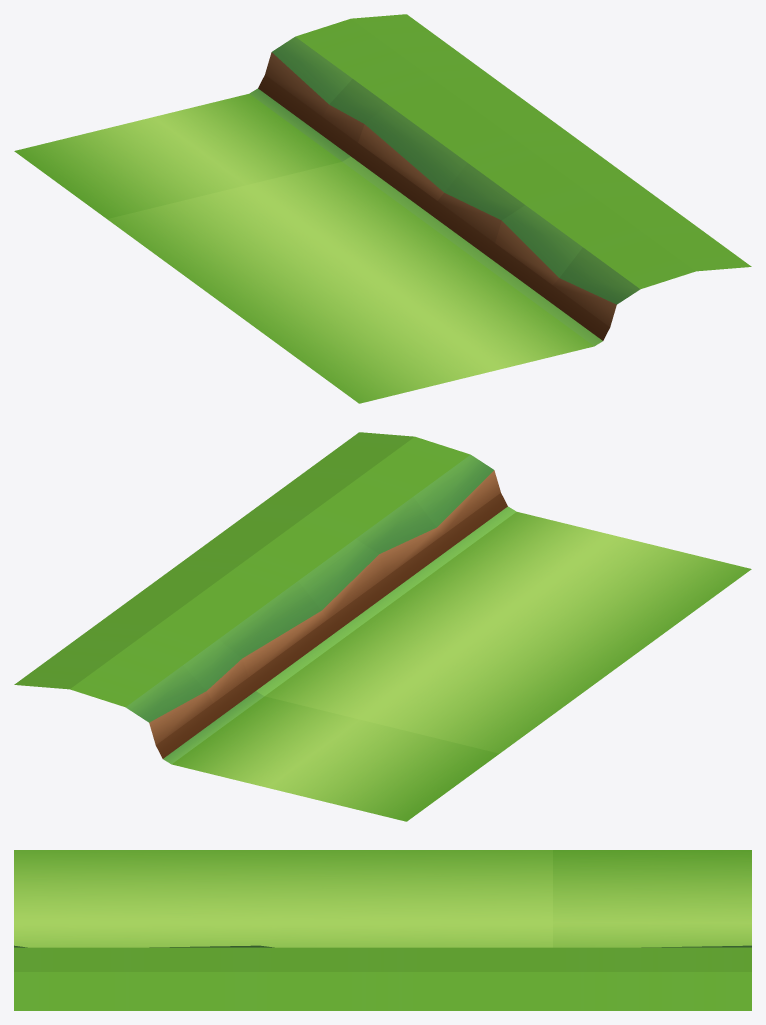
Rendered from Ground.fbx.
The picture shows the model from 3 angles, top to bottom: view 1: azimuth 30°, elevation 25°; view 2: azimuth 150°, elevation 25°; view 3: azimuth 270°, elevation 25°; orthographic projection. The views are drawn at different scales.
Parts seen in each view (by area): view 1: Ground; view 2: Ground; view 3: Ground.
Part boxes in pixels (left/top/right/bottom): Ground: left=14, top=14, right=751, bottom=403; Ground: left=14, top=432, right=751, bottom=821; Ground: left=14, top=850, right=751, bottom=1010.
Size of the model in its own units: 12511 by 1529 by 19053.
